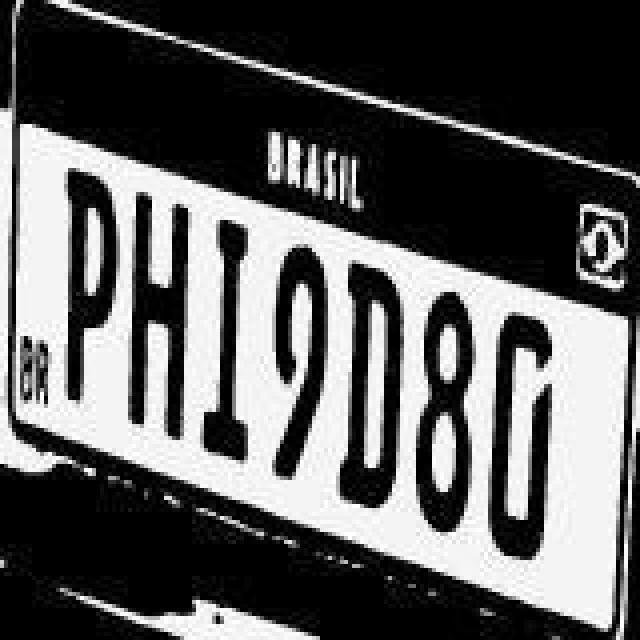8: (414, 282, 482, 550)
9: (266, 240, 334, 496)
D: (336, 260, 408, 516), (488, 306, 552, 590)
H: (118, 178, 202, 438)
I: (194, 210, 262, 478)
P: (58, 154, 126, 406)
